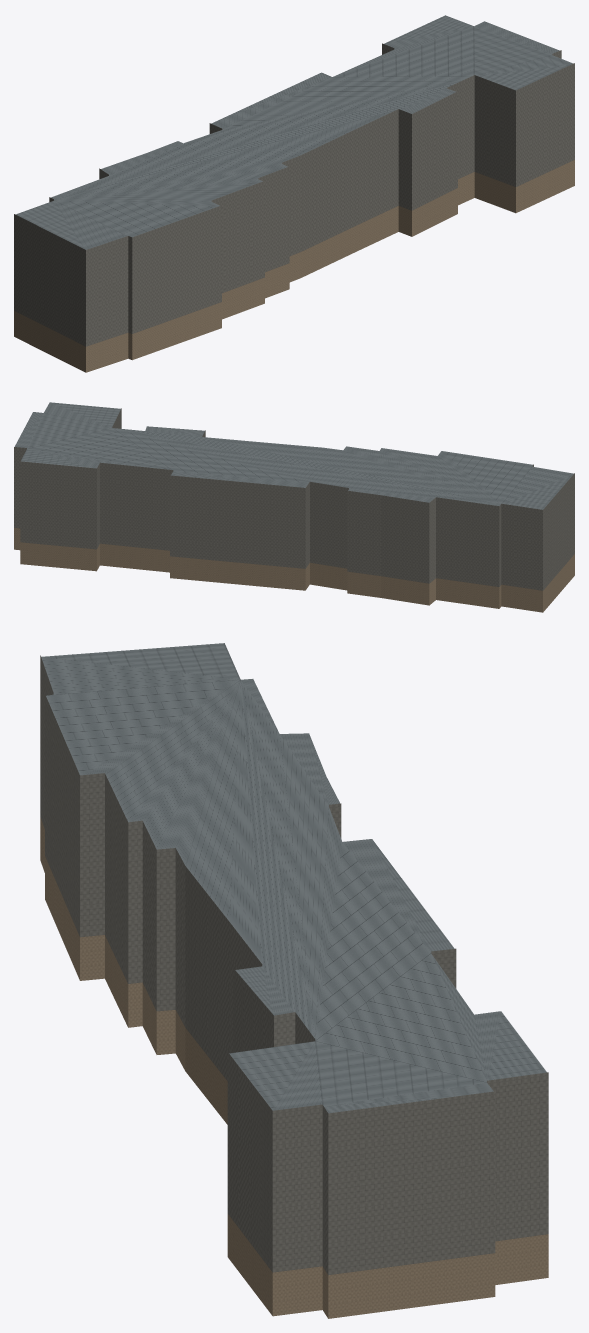
File: core_0019.gltf
The picture shows the model from 3 angles, top to bottom: view 1: azimuth 30°, elevation 25°; view 2: azimuth 150°, elevation 25°; view 3: azimuth 270°, elevation 25°; orthographic projection. The views are drawn at different scales.
Parts seen in each view (by area): view 1: core_0019; view 2: core_0019; view 3: core_0019.
Part boxes in pixels (box(x1,y1,x2,y2)): core_0019: box(14, 15, 574, 372); core_0019: box(14, 402, 574, 612); core_0019: box(40, 643, 548, 1318).
Bounding box in the file's own units: 118 × 23.98 × 53.73.
Materials: 3 (3 with a texture image).
